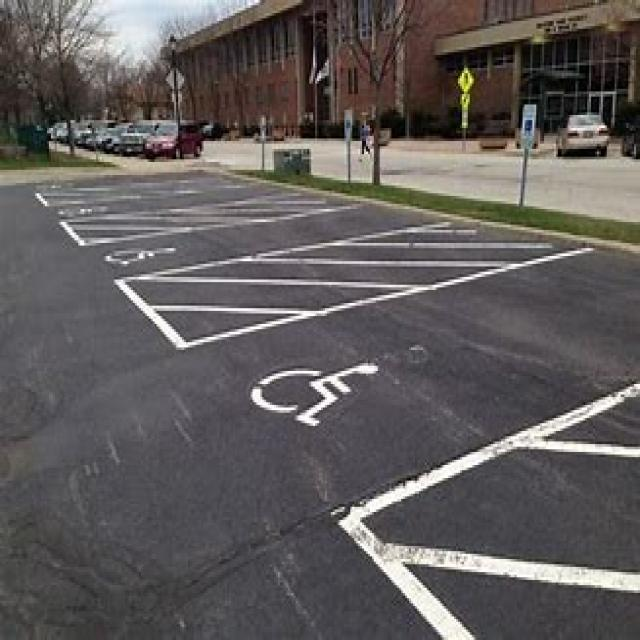symbol_of_access: (247, 362, 387, 431), (102, 243, 180, 269)
